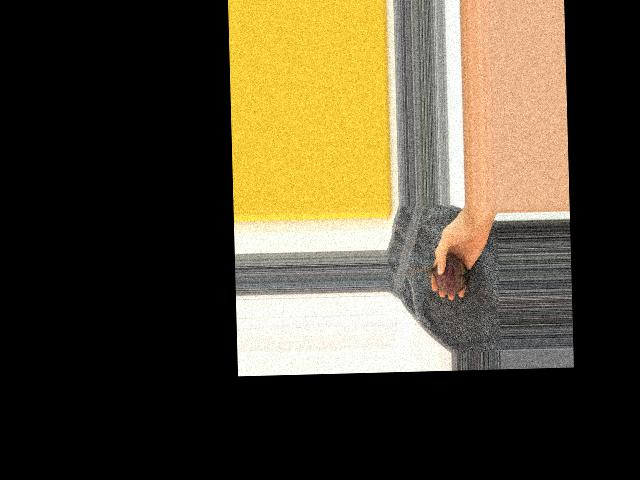beet: (403, 254, 471, 297)
